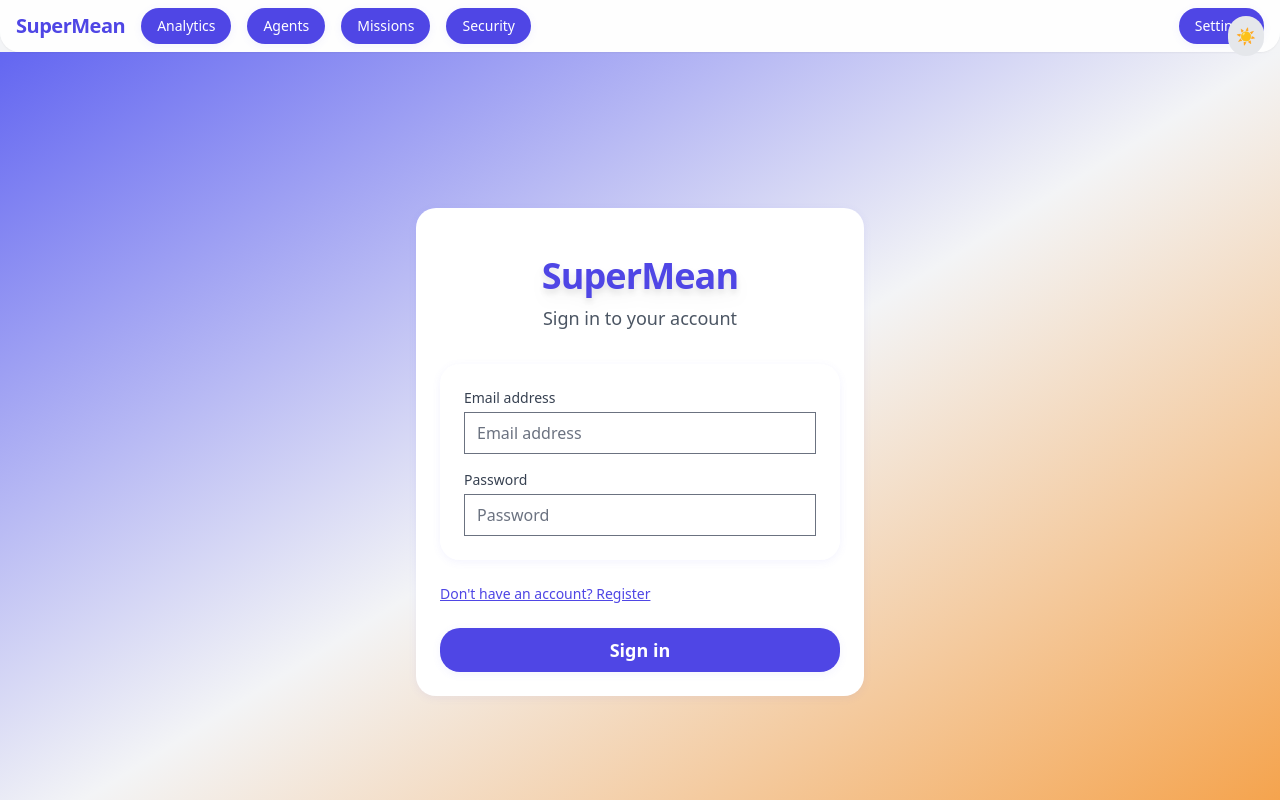
it: Authentication Flow › should show error on failed login
Type "wrong@example.com" into the field named "email".
click(640, 433); type("wrong@example.com")  # box [464,412,816,454]
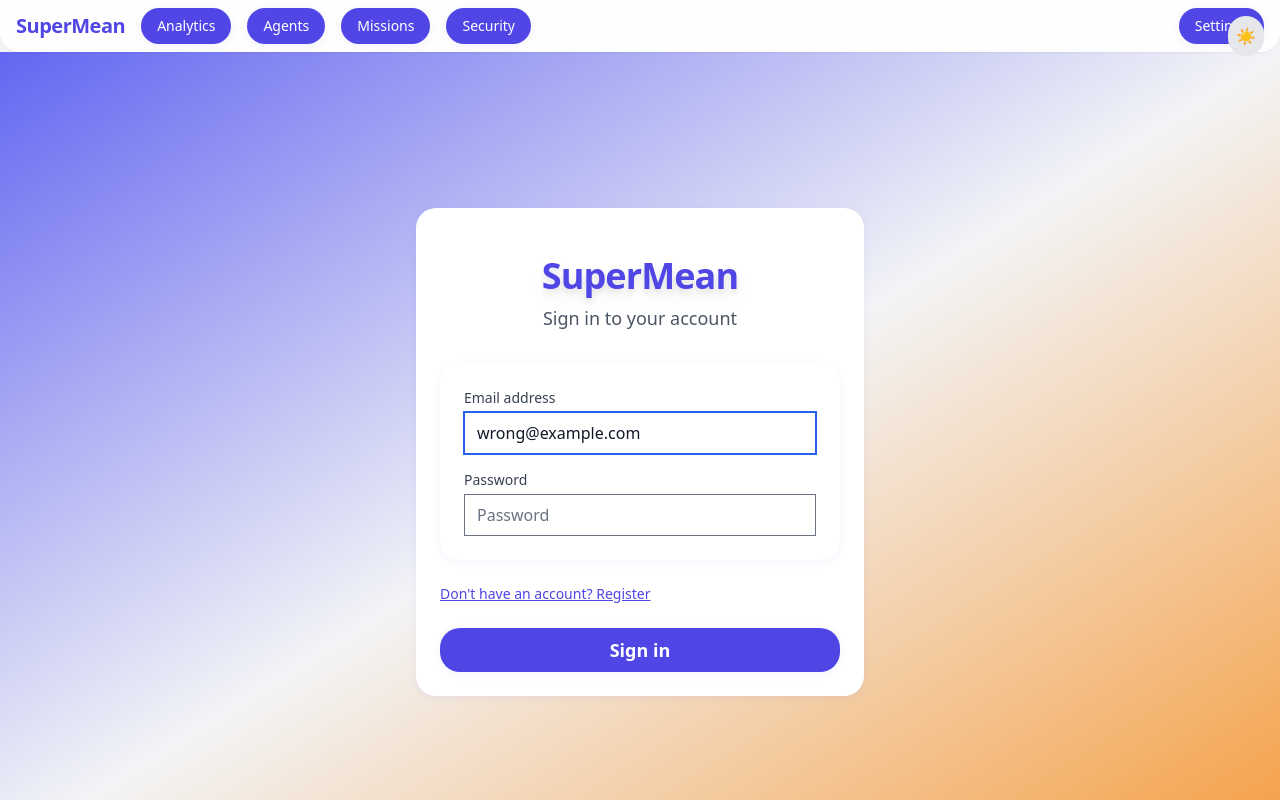
Type "wrongpassword" into the password field named "password".
click(640, 515); type("wrongpassword")  # box [464,494,816,536]
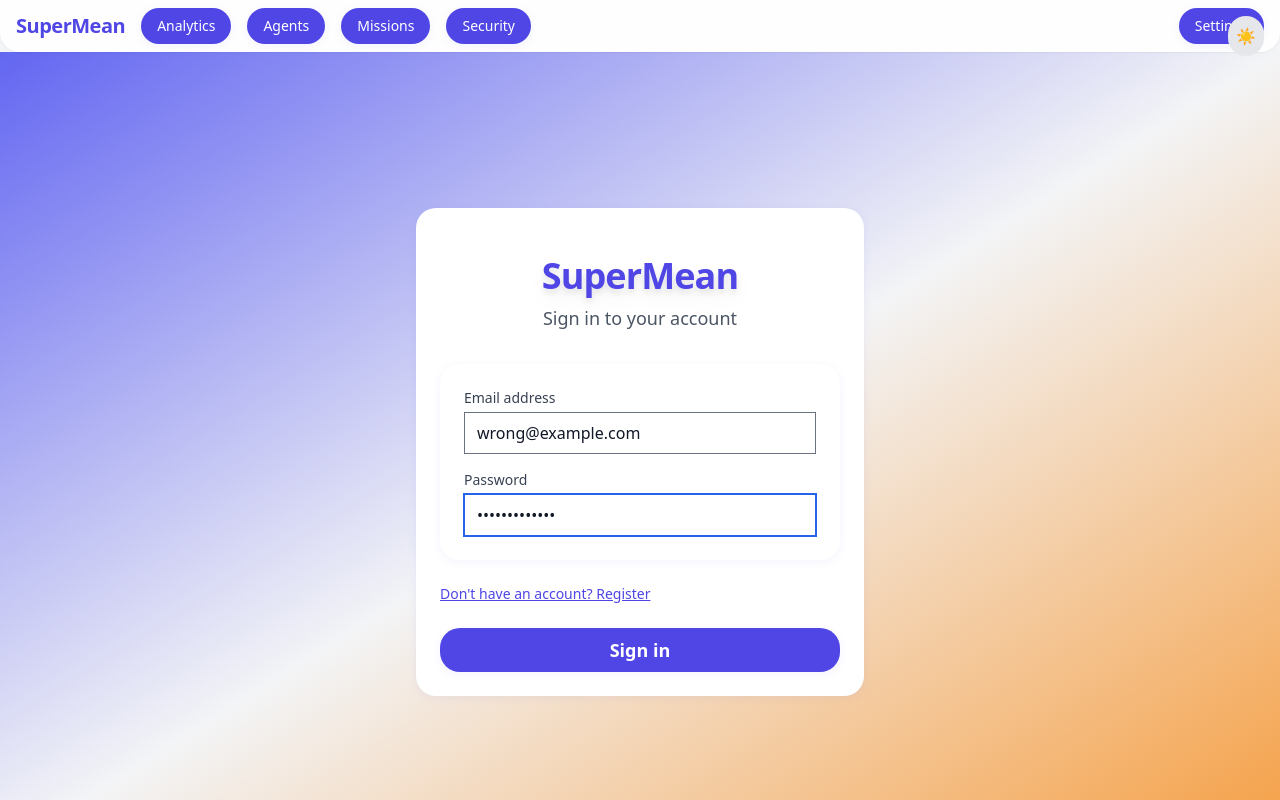
Click the button "Sign in".
click(640, 650)  # box [440,628,840,672]
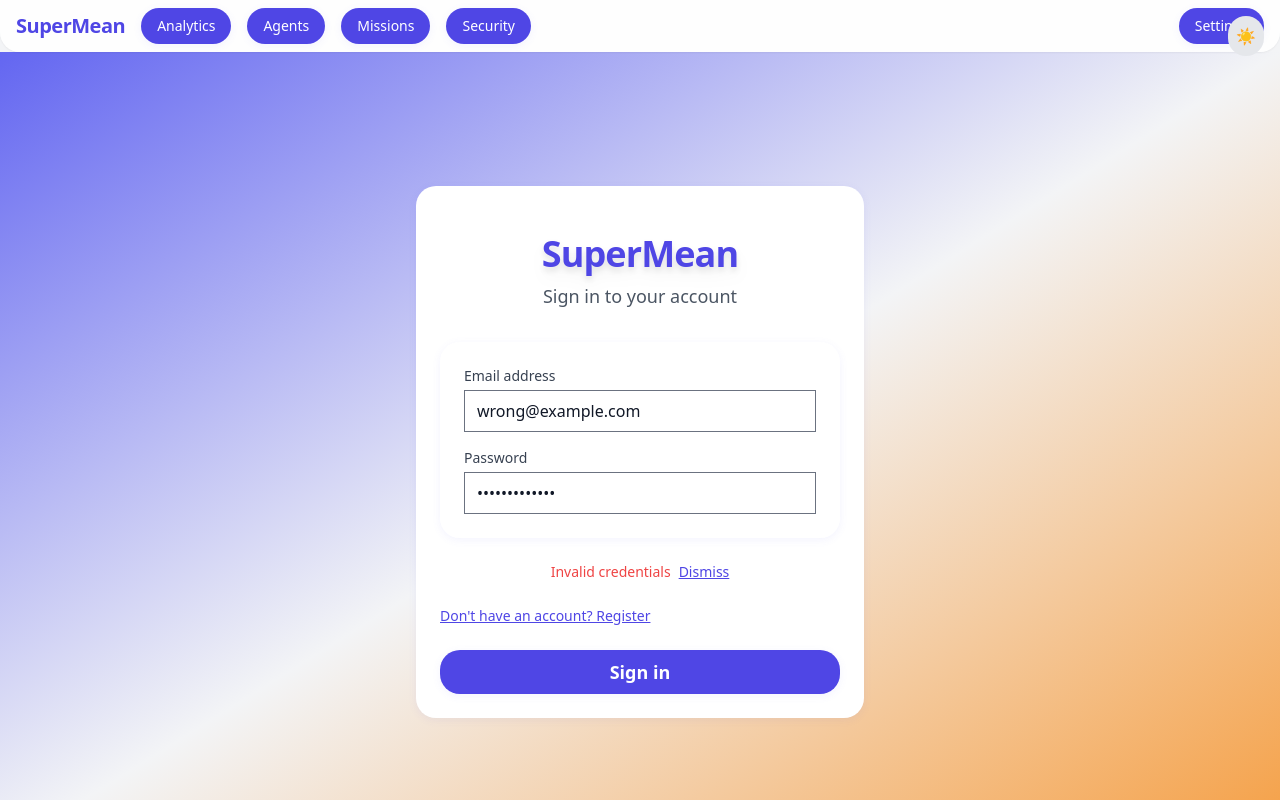
Check: the text "Invalid credentials" is shown, box [551,562,671,581]
